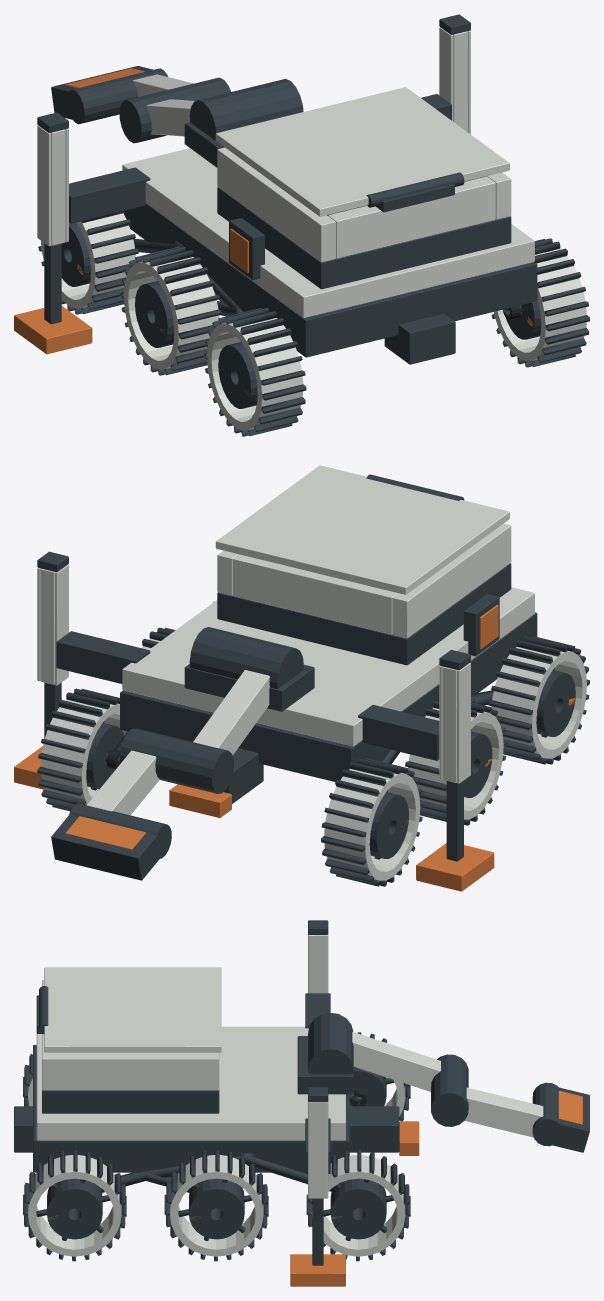
Rendered from zhulei-work.glb.
The picture shows the model from 3 angles, top to bottom: view 1: azimuth 30°, elevation 25°; view 2: azimuth 150°, elevation 25°; view 3: azimuth 270°, elevation 25°; orthographic projection. The views are drawn at different scales.
Visible parts, largest first — view 1: HoodLidPanel, BodyShell, FrameBed, Wheel_LR, Wheel_LM, RearFloor, Wheel_RR, RearWallBack, Wheel_LF, RearWallL, ShoulderAxle, SupportBeamL (+19 smaller); view 2: HoodLidPanel, BodyShell, Wheel_LF, FrameBed, Wheel_LR, RearFloor, Wheel_RF, RearWallFront, Wheel_LM, RearWallL, ShoulderAxle, ElbowAxle (+21 smaller); view 3: BodyShell, HoodLidPanel, Wheel_RM, Wheel_RR, Wheel_RF, FrameBed, RearWallR, RearFloor, UpperArm, ShoulderAxle, LowerArm, TowFrontMount (+15 smaller).
Boxes of the visible parts, <box> form: HoodLidPanel: <box>215,87,509,216</box>; BodyShell: <box>122,148,534,317</box>; FrameBed: <box>123,203,537,357</box>; Wheel_LR: <box>204,307,306,436</box>; Wheel_LM: <box>120,246,221,375</box>; RearFloor: <box>217,187,511,289</box>; Wheel_RR: <box>491,238,589,367</box>; RearWallBack: <box>328,176,495,258</box>; Wheel_LF: <box>38,211,138,314</box>; RearWallL: <box>217,147,335,262</box>; ShoulderAxle: <box>189,78,303,140</box>; SupportBeamL: <box>69,167,150,223</box>; HoodLidPanel: <box>215,465,509,594</box>; BodyShell: <box>122,587,534,746</box>; Wheel_LF: <box>321,758,423,886</box>; FrameBed: <box>120,612,537,781</box>; Wheel_LR: <box>488,636,589,764</box>; RearFloor: <box>217,563,511,665</box>; Wheel_RF: <box>37,688,126,811</box>; RearWallFront: <box>232,554,398,634</box>; Wheel_LM: <box>405,700,506,825</box>; RearWallL: <box>392,523,511,638</box>; ShoulderAxle: <box>189,627,303,688</box>; ElbowAxle: <box>119,728,233,793</box>; BodyShell: <box>36,1026,345,1140</box>; HoodLidPanel: <box>44,967,221,1052</box>; Wheel_RM: <box>164,1150,268,1261</box>; Wheel_RR: <box>23,1150,126,1261</box>; Wheel_RF: <box>306,1150,410,1261</box>; FrameBed: <box>33,1045,349,1172</box>; RearWallR: <box>42,1052,219,1090</box>; RearFloor: <box>42,1090,219,1113</box>; UpperArm: <box>352,1031,440,1091</box>; ShoulderAxle: <box>308,1012,353,1074</box>; LowerArm: <box>464,1087,543,1137</box>; TowFrontMount: <box>349,1106,399,1152</box>.
Size of the model in its own units: 1.74 by 0.822 by 2.27.
